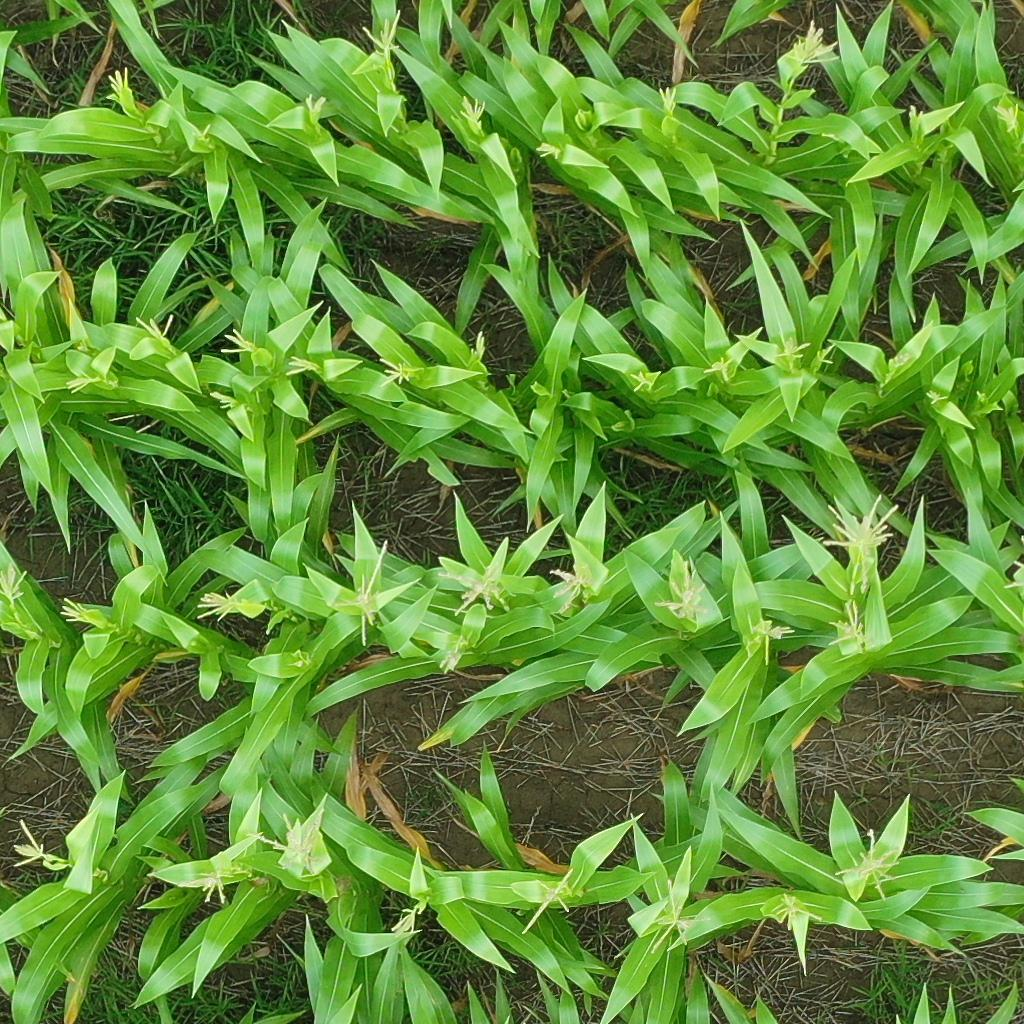Tassel: (819, 491, 899, 593), (324, 535, 393, 649), (244, 806, 328, 872), (835, 824, 906, 901), (432, 558, 513, 618), (647, 879, 708, 949), (518, 868, 576, 936), (652, 563, 714, 623), (789, 14, 842, 64), (356, 8, 407, 59), (745, 613, 795, 665), (10, 819, 58, 869), (185, 861, 239, 905), (547, 566, 594, 616), (827, 596, 869, 649), (769, 892, 823, 928), (194, 587, 240, 623), (436, 636, 475, 675), (216, 321, 256, 358), (131, 311, 175, 343), (376, 351, 413, 389), (62, 362, 102, 397), (1, 560, 30, 607), (201, 383, 245, 413), (56, 592, 91, 628), (455, 92, 487, 131), (104, 65, 135, 104), (389, 905, 422, 940), (703, 352, 735, 387), (773, 330, 808, 362), (282, 352, 322, 379), (885, 346, 914, 381), (992, 101, 1021, 134), (466, 329, 491, 364), (300, 90, 328, 121), (814, 338, 840, 370), (628, 366, 654, 397), (188, 116, 215, 143), (921, 382, 951, 405), (657, 81, 678, 112), (907, 102, 925, 130), (535, 141, 562, 159), (974, 388, 990, 406)
